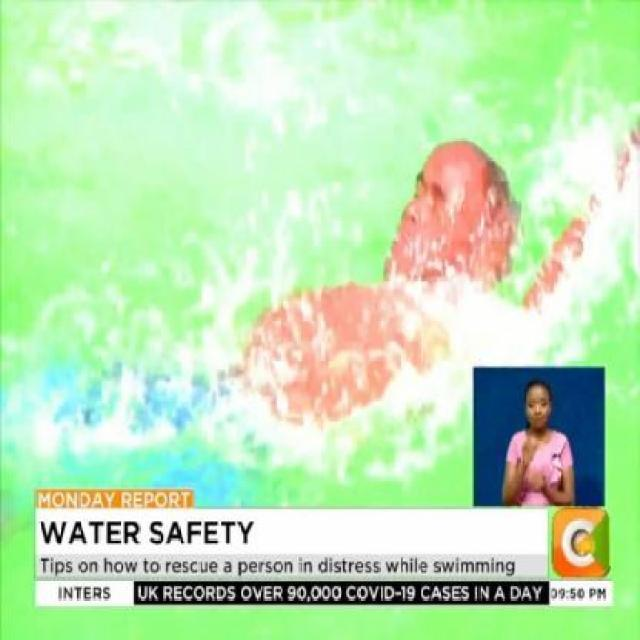swimming: (140, 121, 640, 417)
